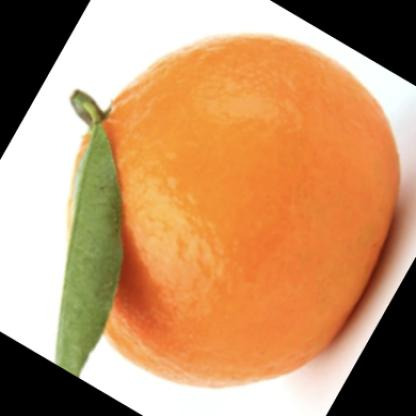fresh: (64, 38, 399, 380)
